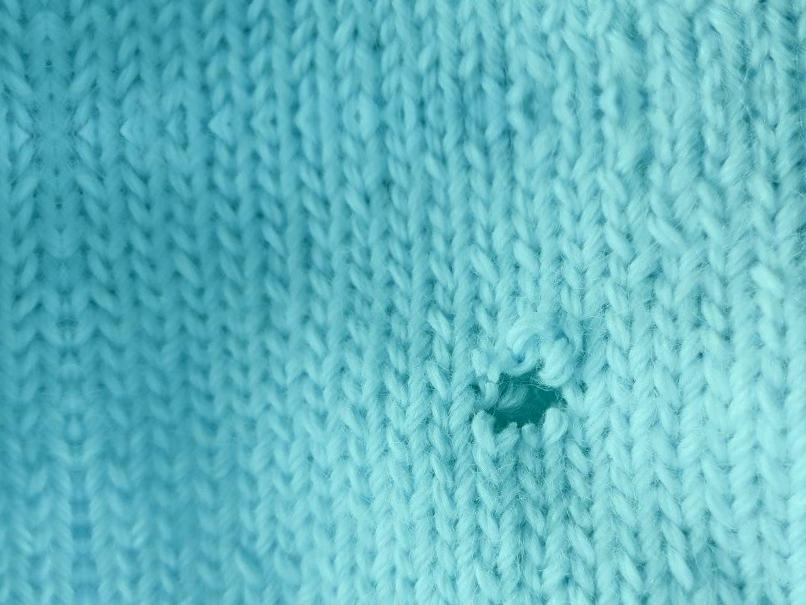hole: (467, 359, 576, 450)
